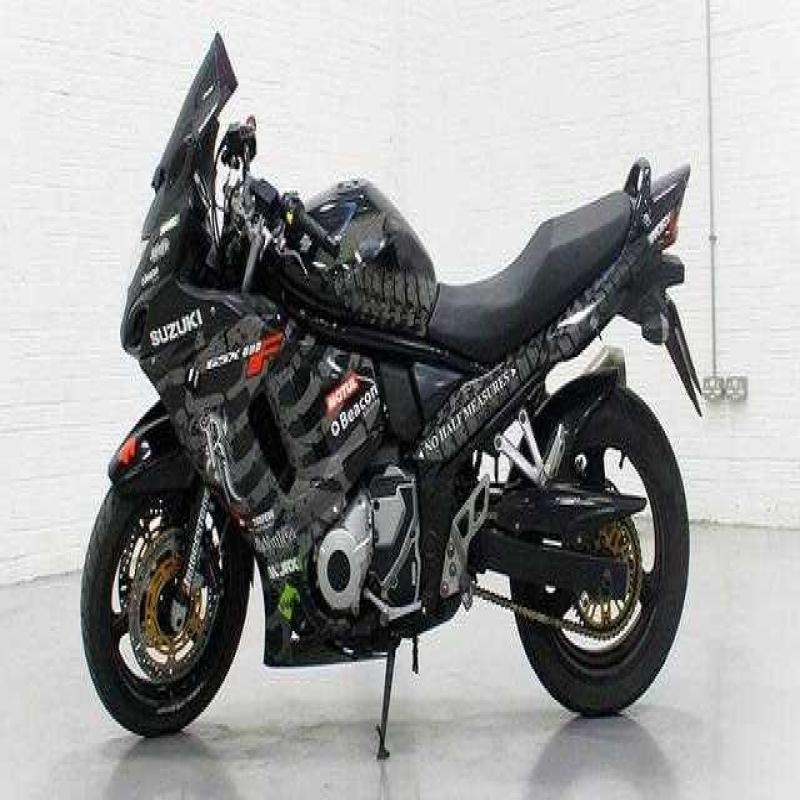bike: (77, 24, 729, 788)
